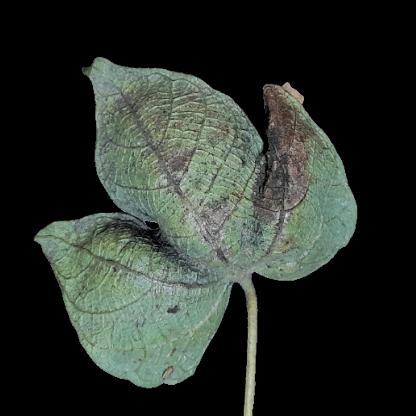curl_stage2: (83, 285, 146, 364), (174, 296, 224, 342), (314, 185, 344, 255)
sooty: (183, 113, 309, 239), (101, 81, 179, 195)
